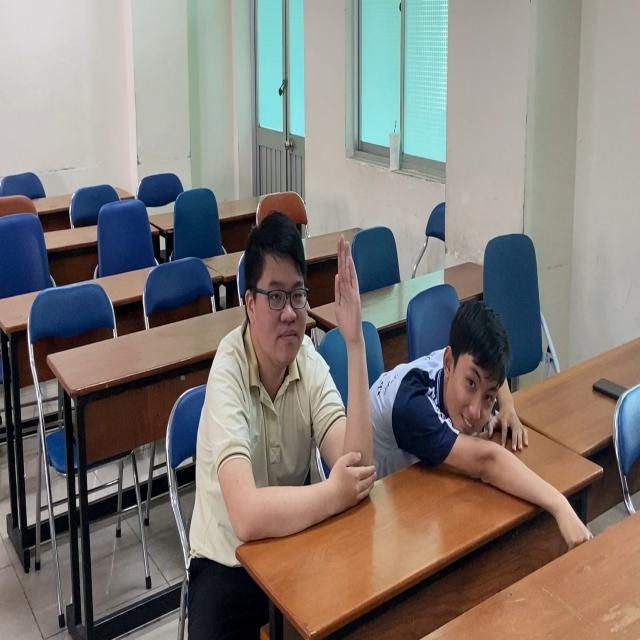raise_hand: (202, 206, 373, 547)
